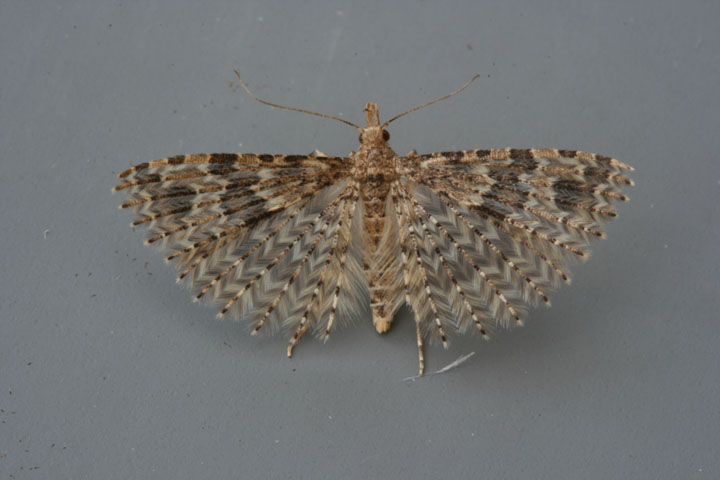Alucitidae: (117, 71, 658, 391)
moth: (115, 69, 656, 389)
